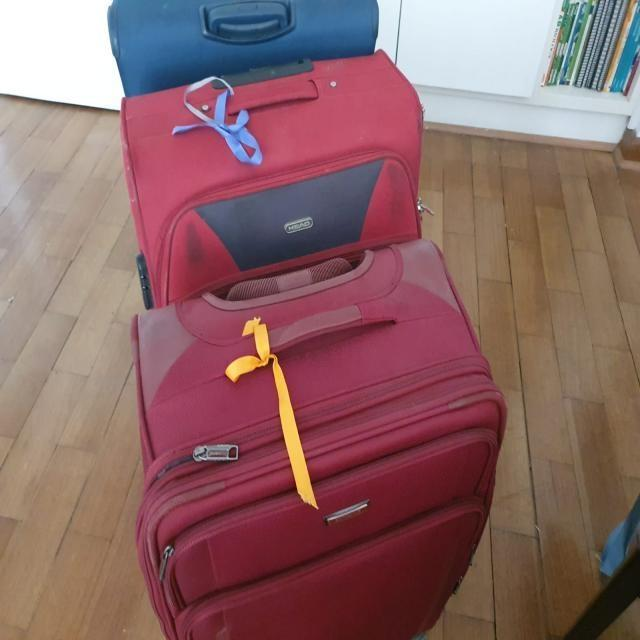Suitcase: (134, 236, 508, 640), (119, 49, 423, 311), (107, 0, 382, 104)
